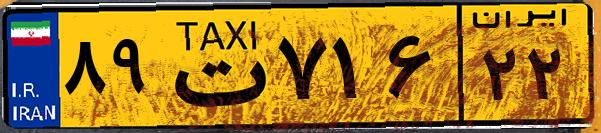1: (330, 28, 385, 110)
2: (475, 38, 525, 113), (525, 38, 570, 115)
6: (385, 28, 445, 110)
7: (270, 28, 330, 110)
8: (57, 26, 110, 100)
9: (110, 28, 158, 98)
ت: (158, 12, 270, 120)
